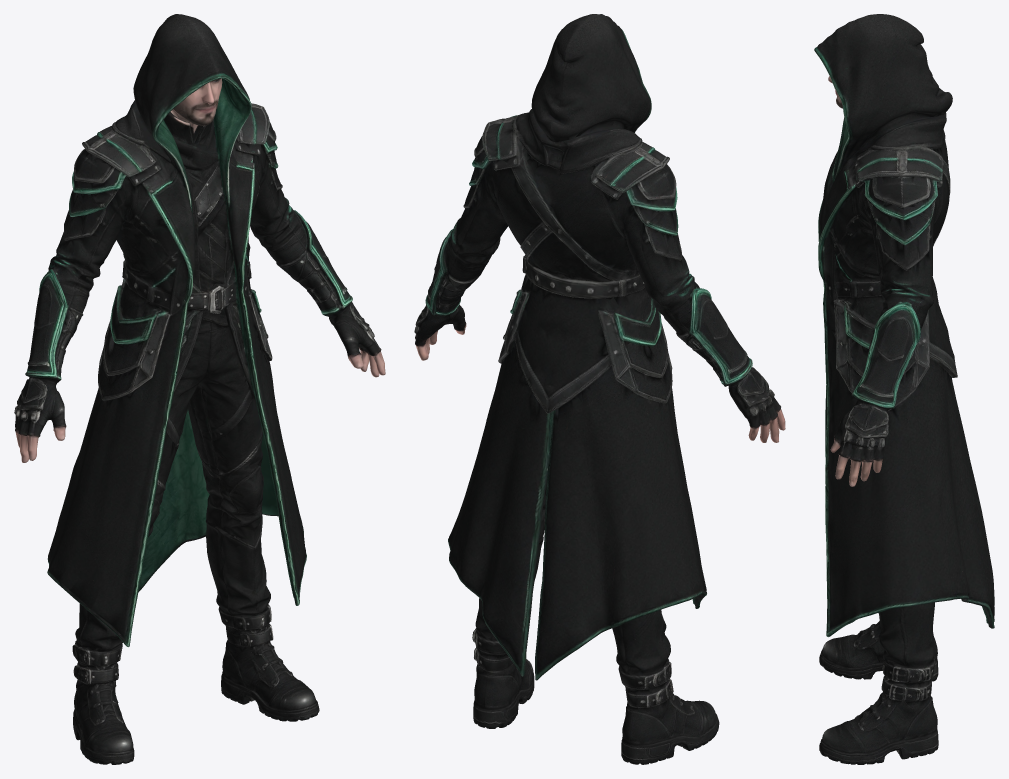
The model's file is ORION.glb.
3 renders of one model, left to right at view 1: azimuth 30°, elevation 25°; view 2: azimuth 150°, elevation 25°; view 3: azimuth 270°, elevation 25°, orthographic.
Bounding box in the file's own units: 1.01 × 1.9 × 0.4464.
Materials: 1 (1 with a texture image).
